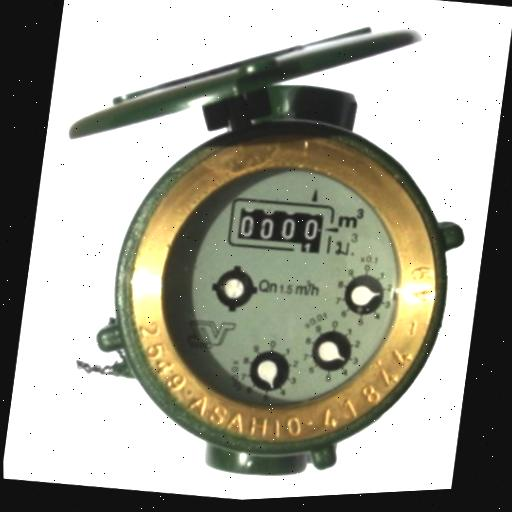0: (302, 214, 325, 254), (279, 216, 299, 245), (257, 215, 278, 242), (238, 213, 258, 240)
border_water_meter_number: (228, 192, 335, 259)
